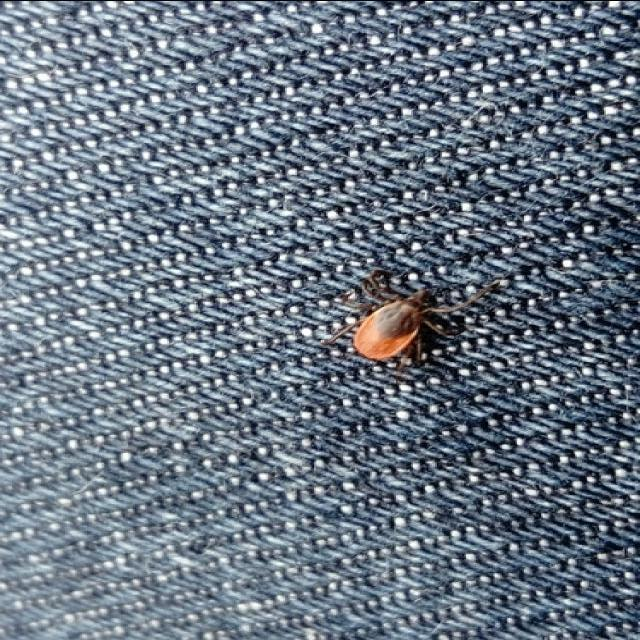Ixodes Ricinus-F: (324, 269, 505, 370)
